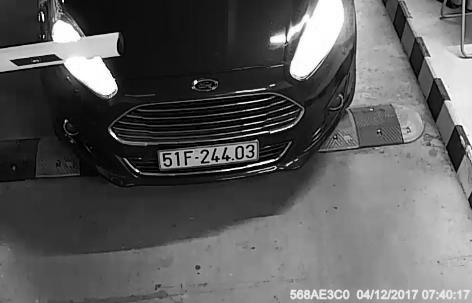License-plate: (155, 142, 268, 178)
